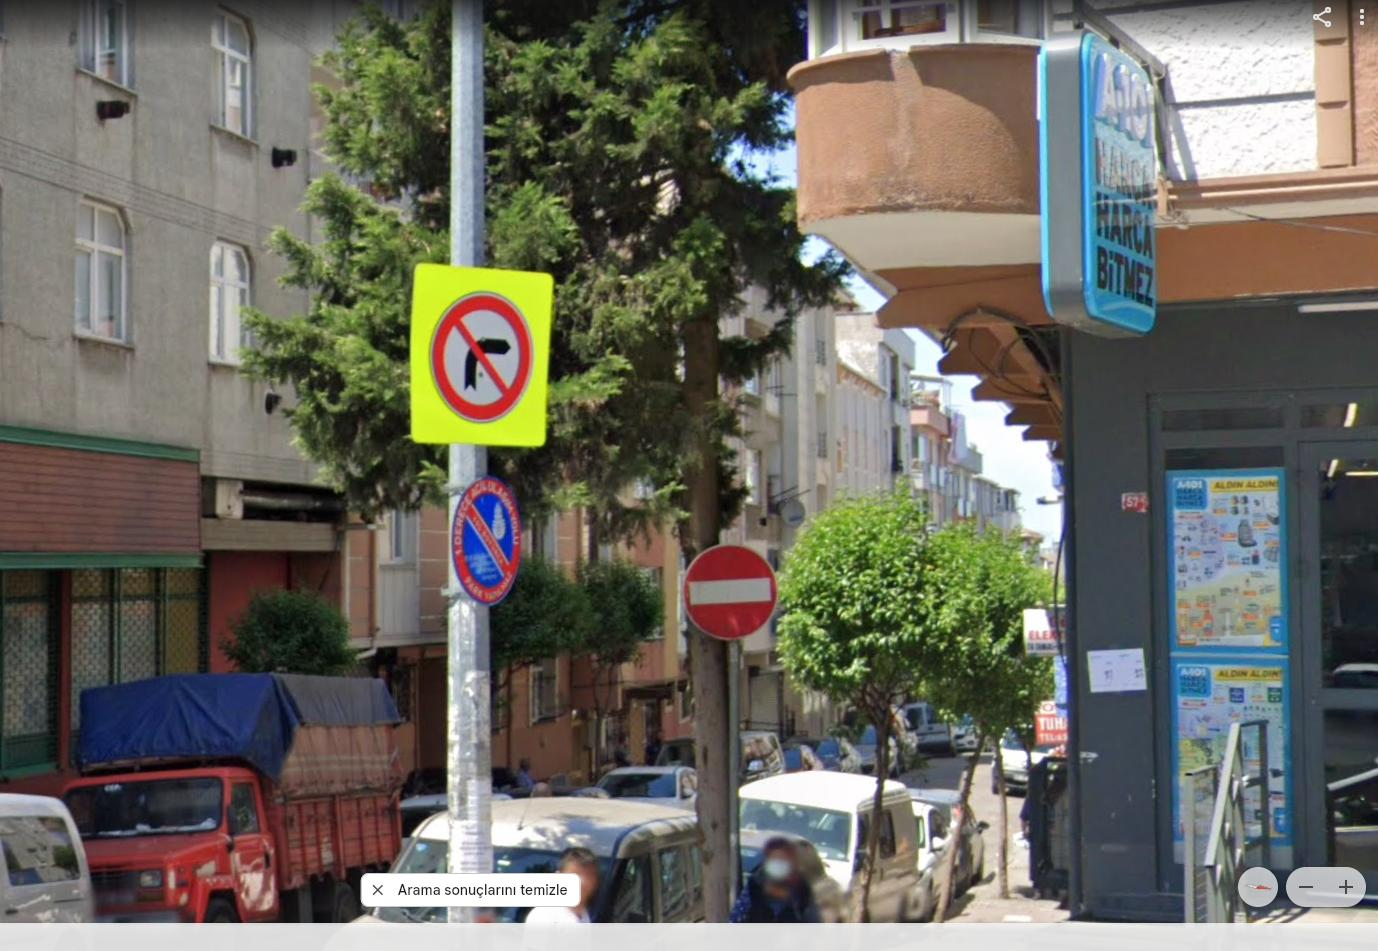rightturnsareforbidden: (434, 296, 526, 413)
